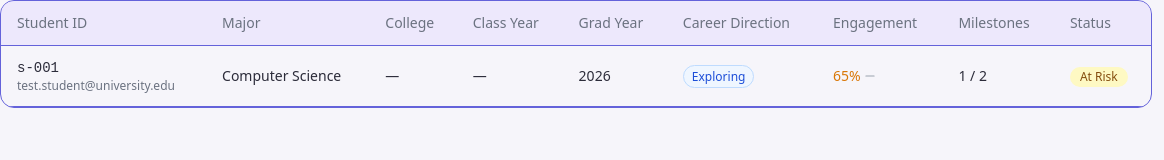
StudentTable › status tooltip shows on hover for a non-On Track student
The image size is (1164, 160).
Expected: the text "Engagement declining" is not shown
Note: Hover the status cell container
Hover over the text "At Risk" at coordinates (1102, 76), box [1054,46,1151,106]
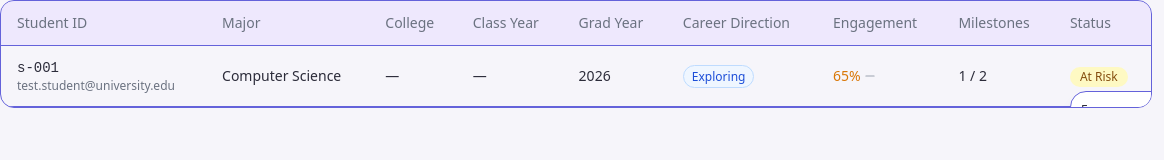
Note: Unhover: tooltip disappears
Move the pointer off the text "At Risk", box [1054,46,1151,106]
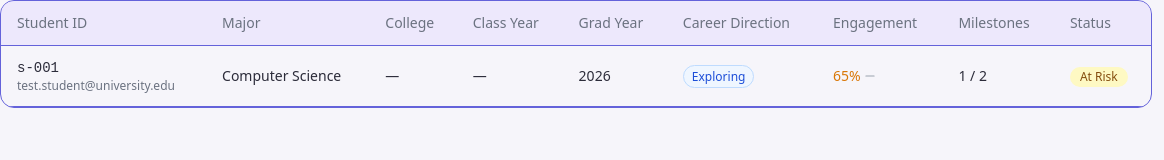
Expected: the text "Engagement declining" is gone
